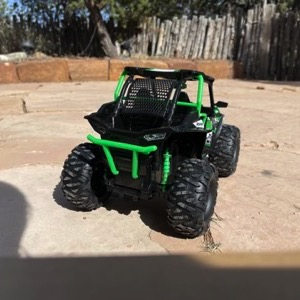polaris: (57, 64, 242, 240)
